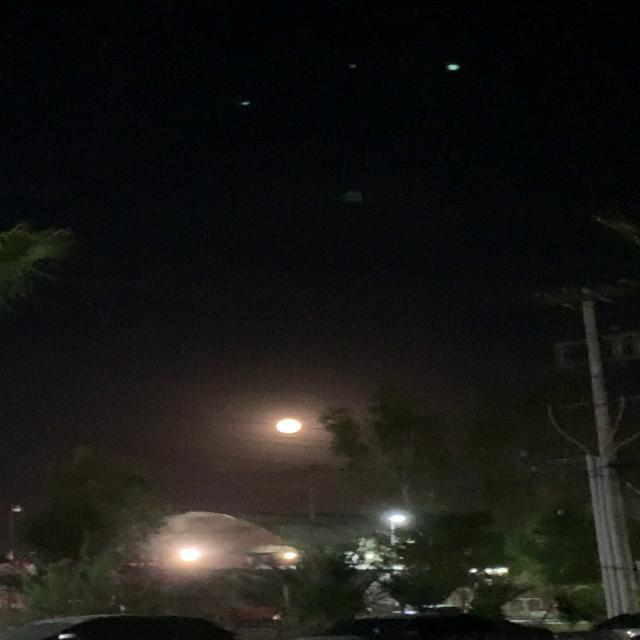moon: (264, 417, 318, 442)
